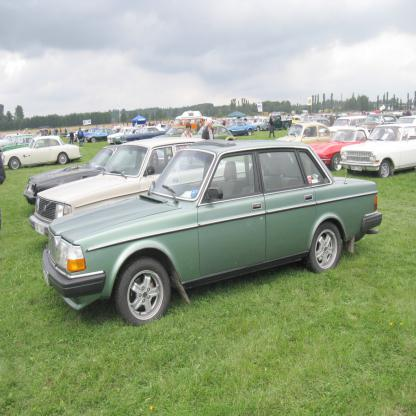Car: (0, 107, 416, 326)
